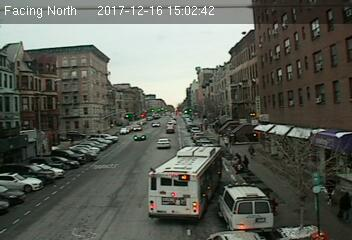bus: (148, 145, 224, 220)
car: (156, 138, 170, 149)
pedestrian: (335, 192, 352, 219), (242, 153, 253, 175)
police: (216, 182, 274, 234)
